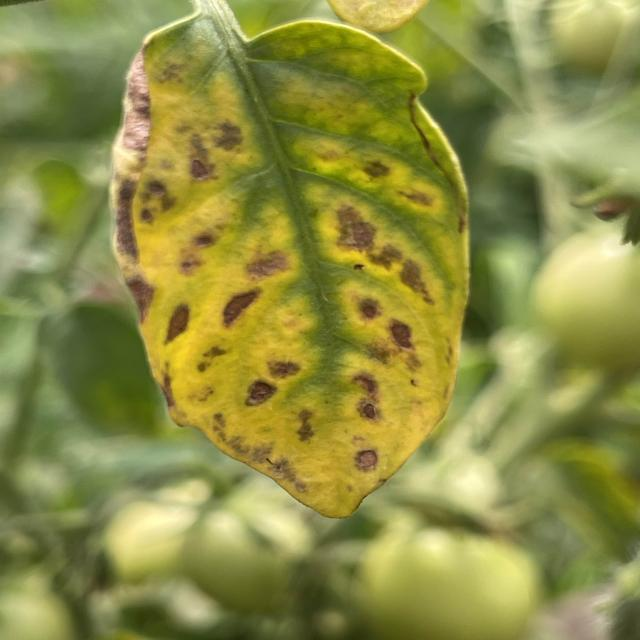tomato_early blight: (108, 8, 469, 518)
